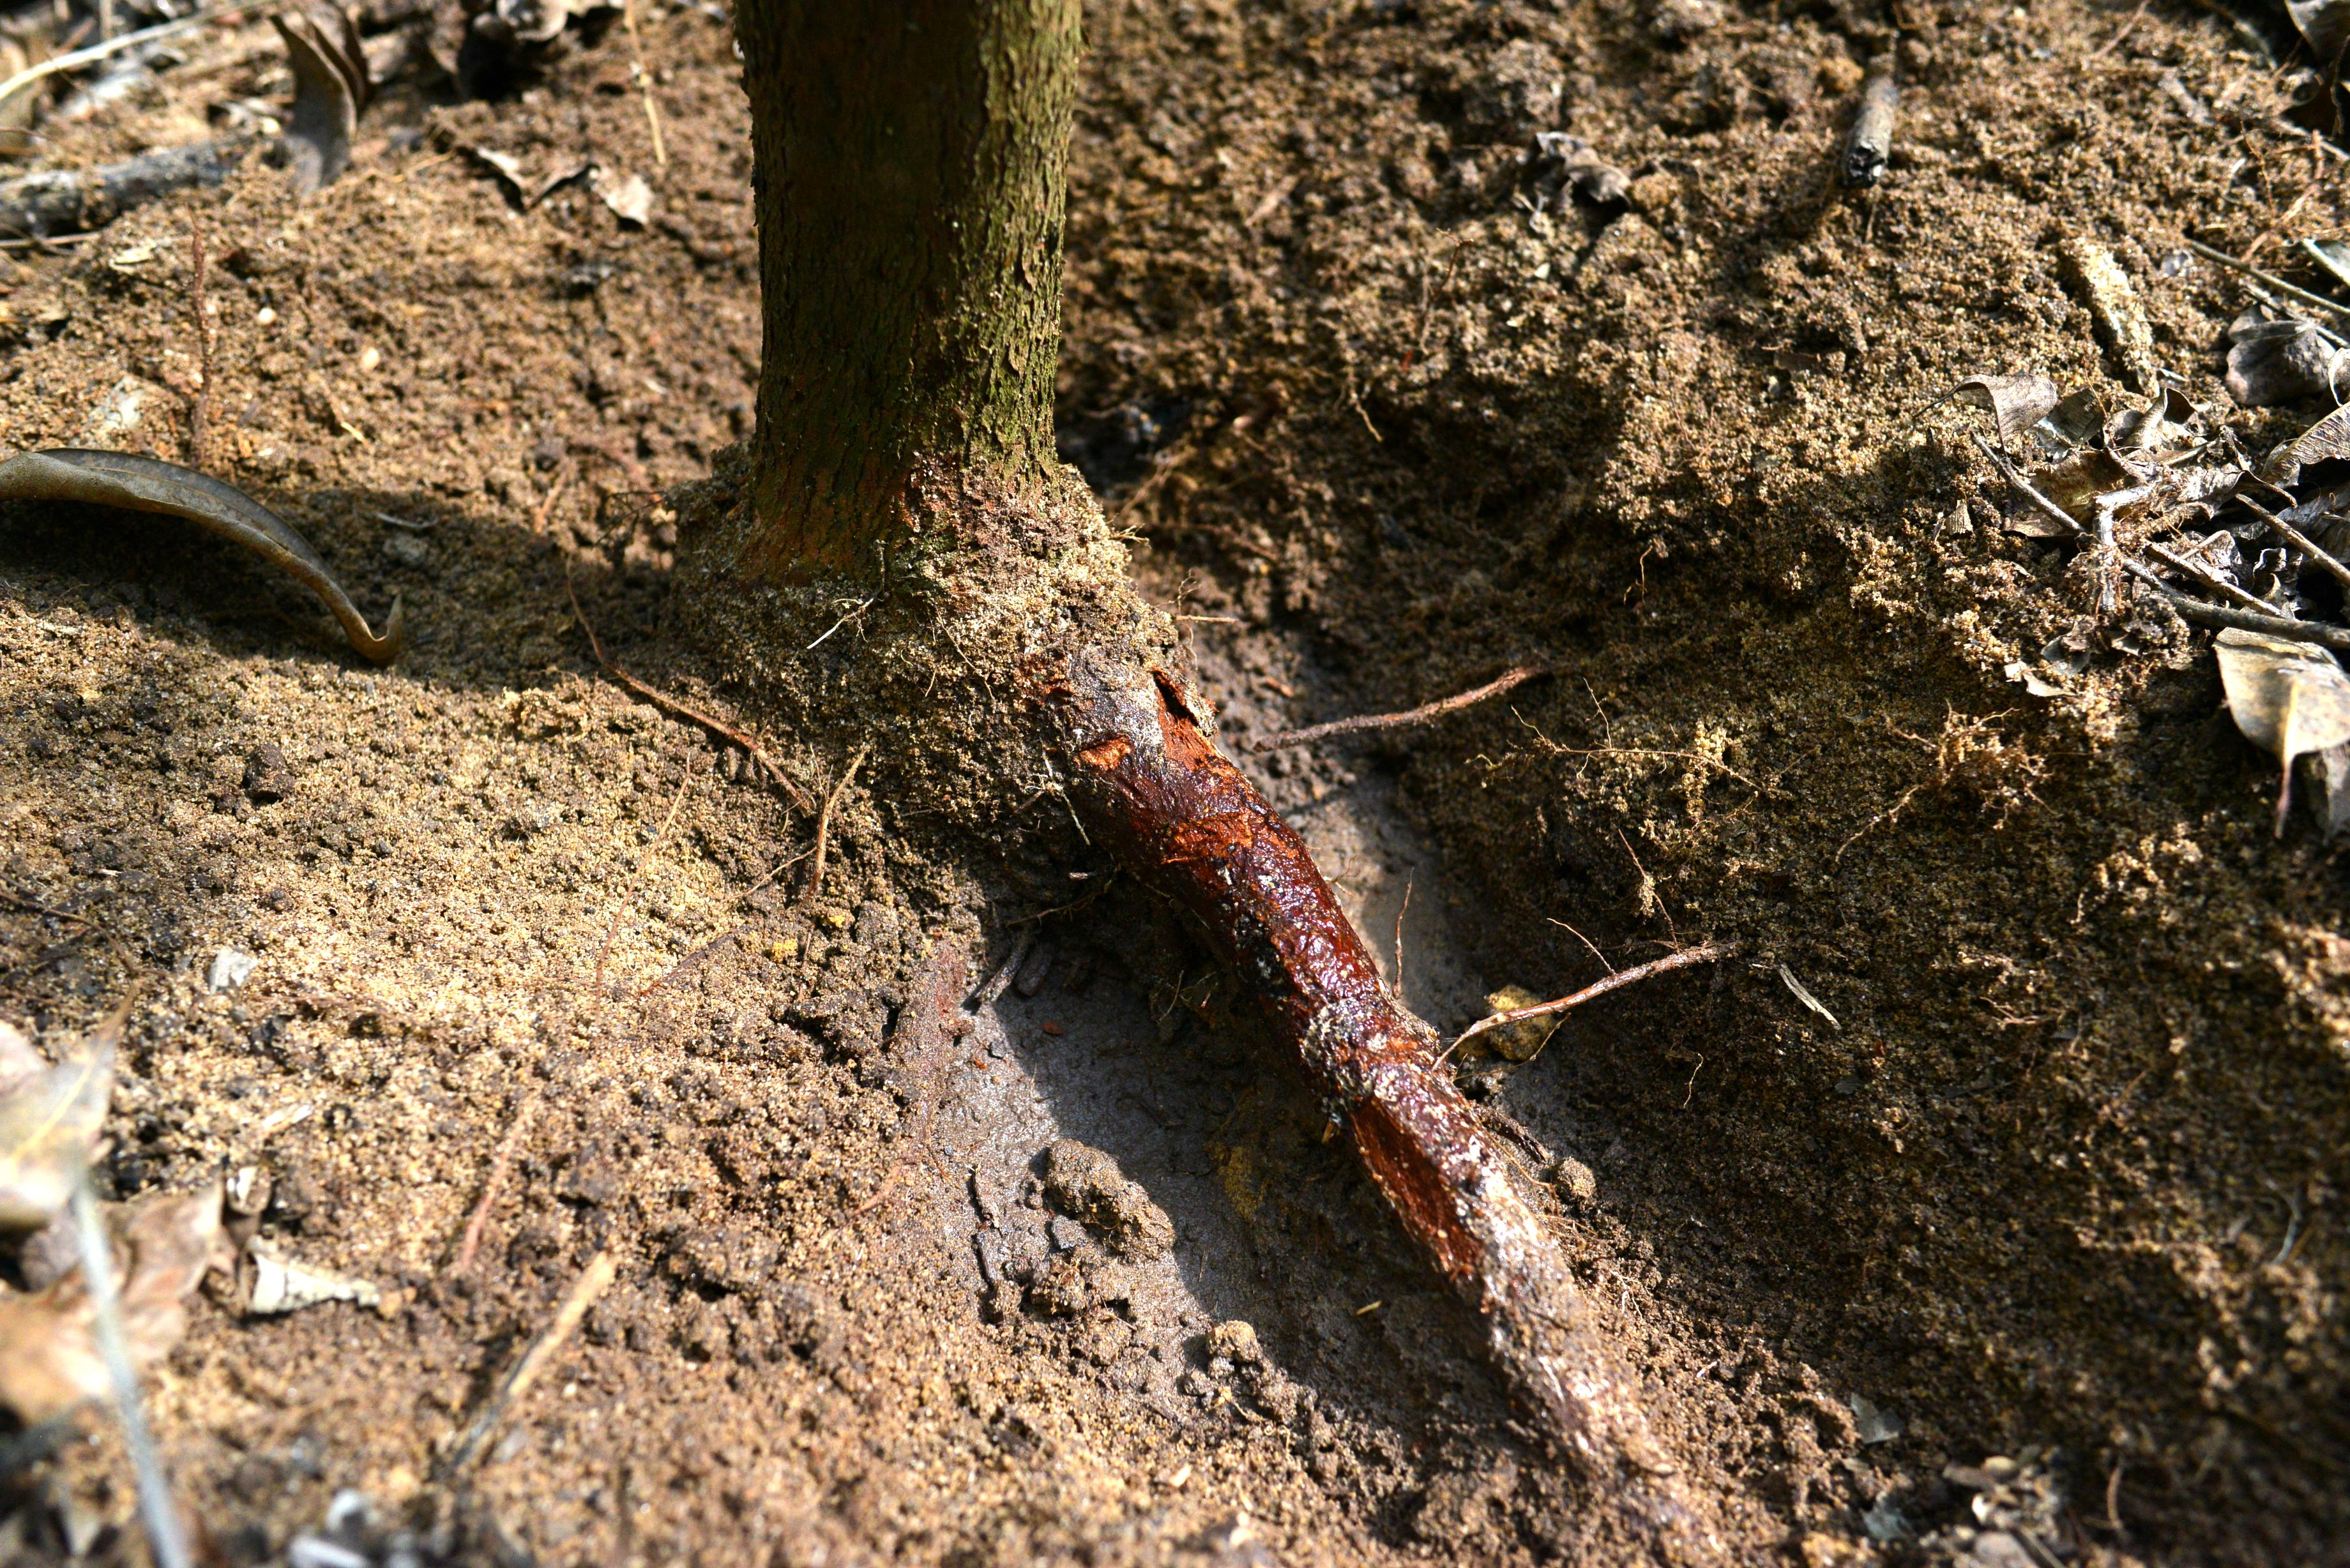Ganoderma - Mycelium: (1484, 1169, 1655, 1479), (945, 572, 1048, 658)
Red Root Rot - Secretion: (1134, 689, 1472, 1298)
